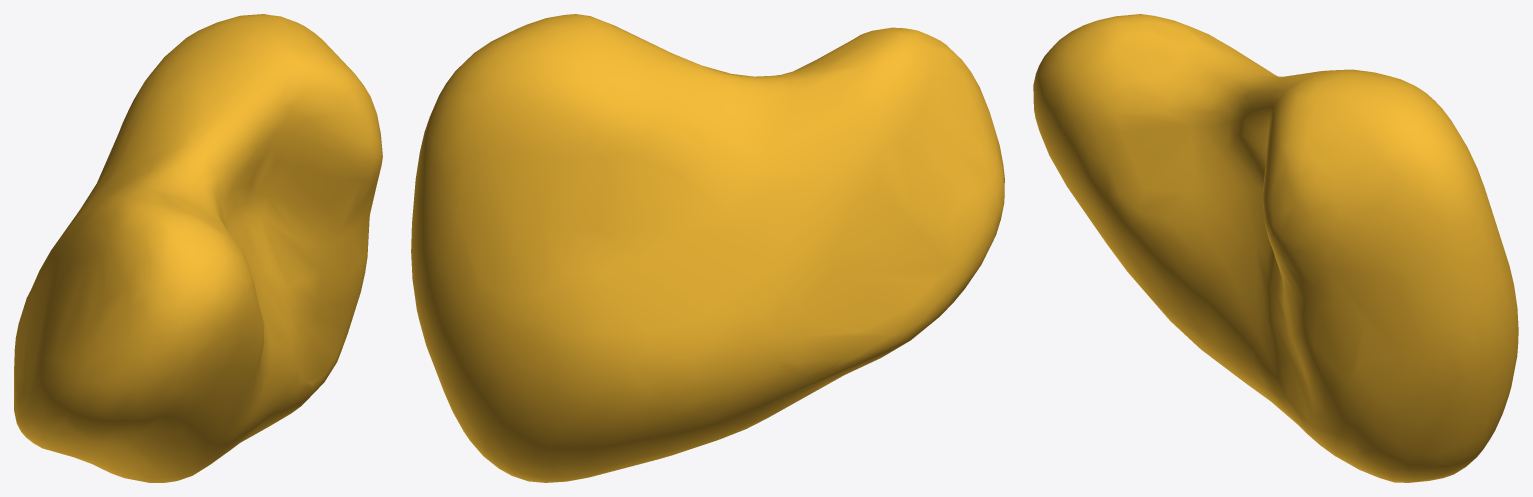
File: nervoso-tonsil-of-cerebellum-r.glb
3 views of the same model, side by side, from view 1: azimuth 30°, elevation 25°; view 2: azimuth 150°, elevation 25°; view 3: azimuth 270°, elevation 25° (orthographic). The views are drawn at different scales.
Parts seen in each view (by area): view 1: Tonsil of cerebellum.r; view 2: Tonsil of cerebellum.r; view 3: Tonsil of cerebellum.r.
Boxes of the visible parts, x1,y1,x2,y2 form: Tonsil of cerebellum.r: (14, 14, 382, 482); Tonsil of cerebellum.r: (411, 14, 1004, 482); Tonsil of cerebellum.r: (1033, 14, 1518, 482).
Size of the model in its own units: 0.0217 by 0.0205 by 0.0224.
